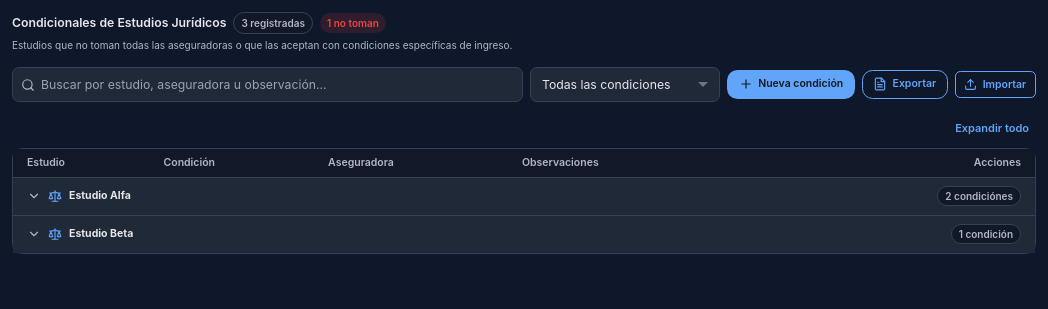
Test: CondicionalesView › muestra los grupos colapsados por defecto y los expande al hacer clic
Click the button "Estudio Alfa" at [100, 196], box [20,178,1028,215]
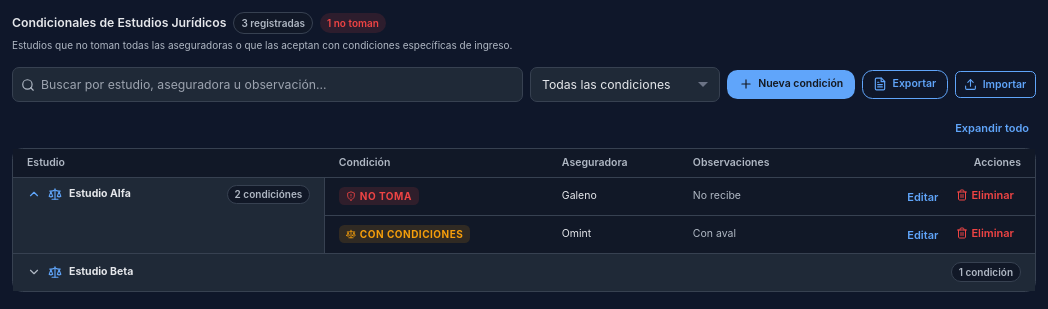
Result: the number of cells "Galeno" is 1 at [548,177,679,215]
Result: the number of cells "Omint" is 1 at [548,215,679,253]
Click the button "Estudio Beta 1 condición" at [101, 272], box [20,254,1028,291]
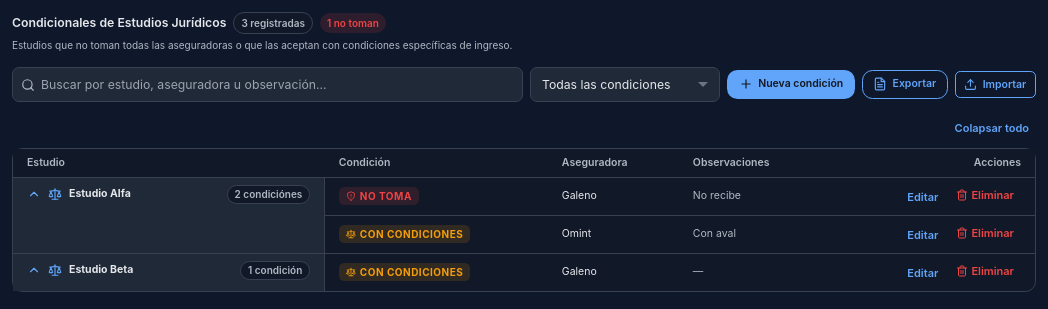
Result: the number of cells "Galeno" is 2 at [548,177,679,215]; [548,253,679,291]
